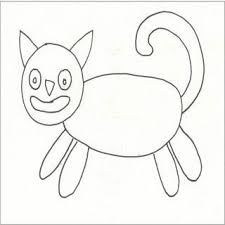cat: (10, 11, 210, 200)
